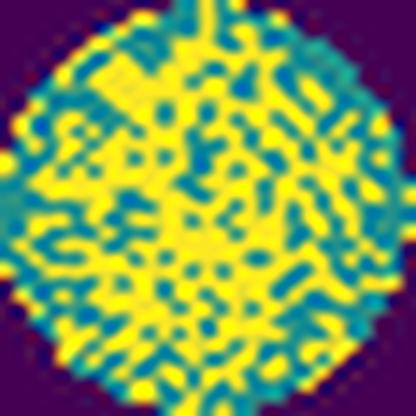Random: (23, 16, 391, 405)
